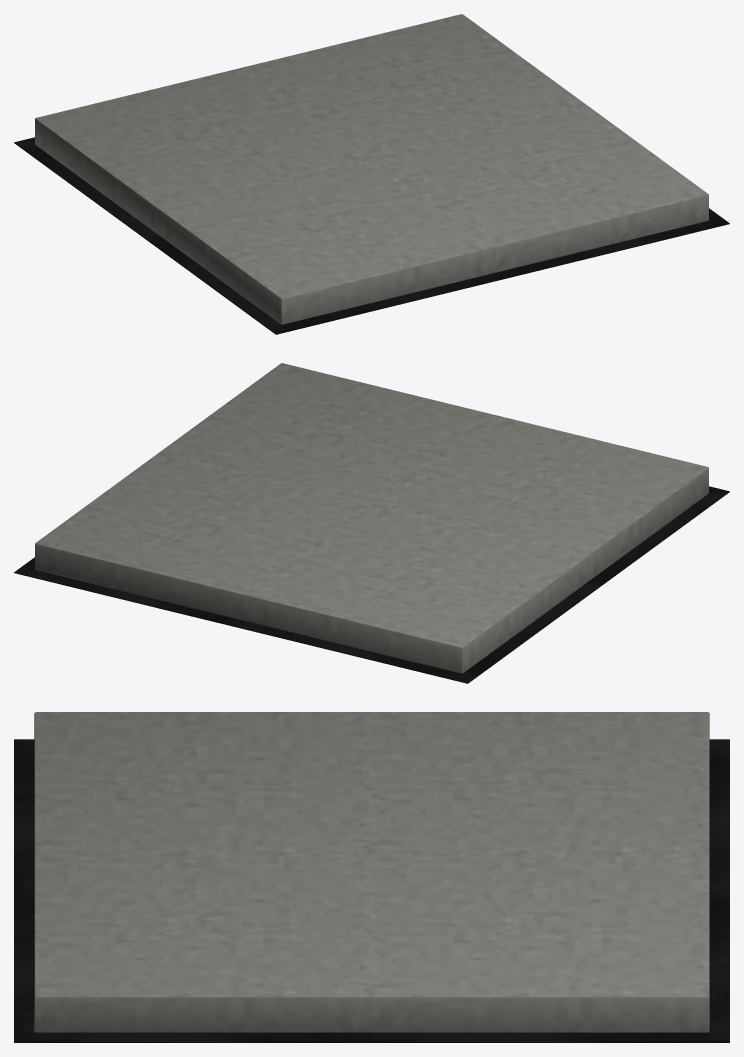
File: FUN-RAD-001_lod1.glb
The picture shows the model from 3 angles, top to bottom: view 1: azimuth 30°, elevation 25°; view 2: azimuth 150°, elevation 25°; view 3: azimuth 270°, elevation 25°; orthographic projection. The views are drawn at different scales.
Visible parts, largest first — view 1: FUN-RAD-001_laje, FUN-RAD-001_lona; view 2: FUN-RAD-001_laje, FUN-RAD-001_lona; view 3: FUN-RAD-001_laje, FUN-RAD-001_lona.
Boxes of the visible parts, x1=… form: FUN-RAD-001_laje: x1=35, y1=14, x2=708, y2=324; FUN-RAD-001_lona: x1=14, y1=137, x2=729, y2=334; FUN-RAD-001_laje: x1=35, y1=363, x2=708, y2=673; FUN-RAD-001_lona: x1=14, y1=486, x2=729, y2=683; FUN-RAD-001_laje: x1=34, y1=712, x2=709, y2=1032; FUN-RAD-001_lona: x1=14, y1=739, x2=729, y2=1042.
Size of the model in its own units: 2.12 by 0.123 by 2.12.
Materials: 2 (2 with a texture image).
